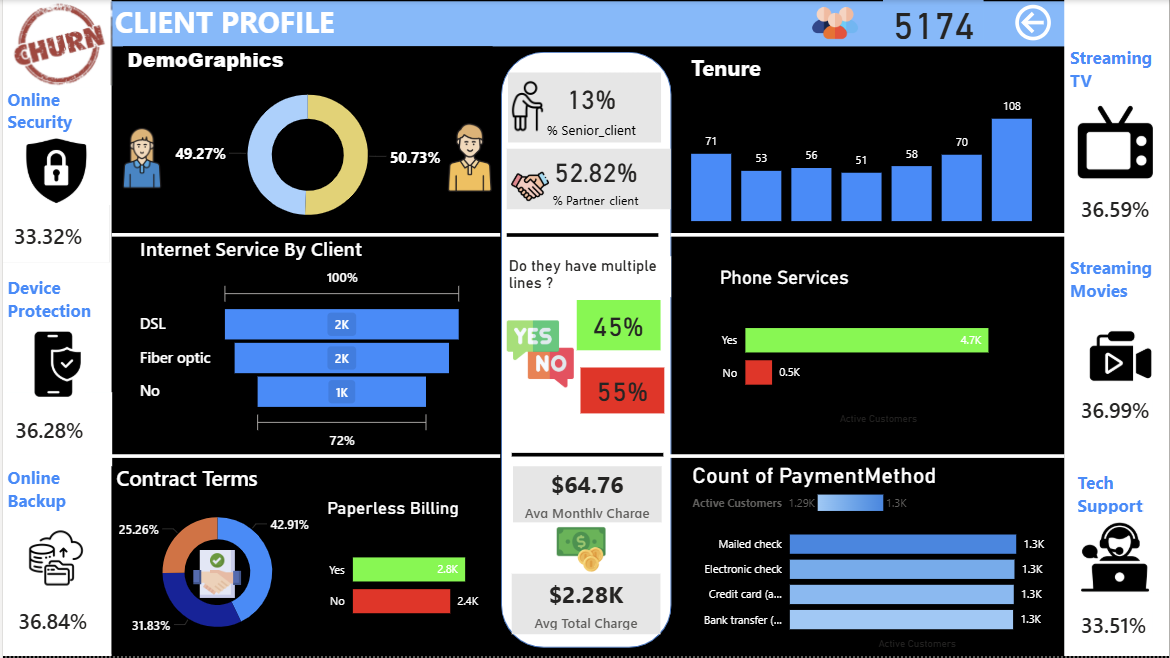

Layout of this report page (visuals, bound fields, positions):
{"tool":"powerbi","page":{"name":"CLIENT PROFILE","canvas":[1280,720],"ordinal":1},"visuals":[{"type":"textbox","title":"CLIENT PROFILE","box":[118,1.4,1162.3,49.4],"z":0},{"type":"card","fields":{"Values":["ChurnDataset.Active Customers"]},"box":[966.2,0,110.6,48.3],"z":1000},{"type":"donutChart","title":"DemoGraphics","fields":{"Category":["ChurnDataset.GENDER"],"Y":["ChurnDataset.Active Customers"]},"box":[132.1,50.1,406,209.1],"z":2000},{"type":"actionButton","box":[1106.1,0,58.5,49.6],"z":3000},{"type":"textbox","box":[0,0,119,800],"z":4000},{"type":"textbox","box":[1164.5,0,133.4,800.2],"z":5000},{"type":"funnel","title":"Internet Service By Client","fields":{"Category":["ChurnDataset.INTERNETSERVICE"],"Y":["ChurnDataset.Active Customers"]},"box":[145,258.3,365,241.7],"z":6000},{"type":"donutChart","title":"Contract Terms","fields":{"Category":["ChurnDataset.CONTRACT"],"Y":["ChurnDataset.Active Customers"]},"box":[119.8,508.7,232.3,207.9],"z":7000},{"type":"clusteredBarChart","title":"Phone Services","fields":{"Category":["ChurnDataset.PHONESERVICE"],"Y":["ChurnDataset.Active Customers"]},"box":[781.7,291.7,330,178.3],"z":8000},{"type":"barChart","title":"Paperless Billing","fields":{"Category":["ChurnDataset.PAPERLESSBILLING"],"Y":["ChurnDataset.Active Customers"]},"box":[351,546.6,188.3,165.1],"z":9000},{"type":"clusteredBarChart","title":"Count of PaymentMethod","fields":{"Category":["ChurnDataset.PAYMENTMETHOD"],"Y":["ChurnDataset.Active Customers"]},"box":[751.7,508.3,396.7,210],"z":10000},{"type":"cardVisual","fields":{"Data":["ChurnDataset.% Onlinesec_client"]},"box":[0,225,117.4,63.6],"z":11000},{"type":"cardVisual","fields":{"Data":["ChurnDataset.% Device_client"]},"box":[1.2,430.4,118.6,80.7],"z":12000},{"type":"cardVisual","fields":{"Data":["ChurnDataset.% Onlinebackup_client"]},"box":[0,640.8,118.6,78.3],"z":13000},{"type":"cardVisual","fields":{"Data":["ChurnDataset.% StreamTV_client"]},"box":[1166.6,195.7,113.7,63.6],"z":14000},{"type":"cardVisual","fields":{"Data":["ChurnDataset.% Streammovie_client"]},"box":[1166.6,417,113.7,62.4],"z":15000},{"type":"cardVisual","fields":{"Data":["ChurnDataset.% Tech_client"]},"box":[1166.6,650.5,113.7,69.7],"z":16000},{"type":"shape","box":[538.3,48.4,204.9,671.9],"z":17000},{"type":"card","fields":{"Values":["ChurnDataset.% Senior_client"]},"box":[555,80,168.3,76.7],"z":18000},{"type":"card","fields":{"Values":["ChurnDataset.% Partner_client"]},"box":[553.3,163.3,180,66.7],"z":19000},{"type":"card","fields":{"Values":["ChurnDataset.Avg Monthly Charge"]},"box":[560,511.7,163.3,61.7],"z":20000},{"type":"card","fields":{"Values":["ChurnDataset.Avg Total Charge"]},"box":[558.3,630,163.3,66.7],"z":21000},{"type":"card","fields":{"Values":["ChurnDataset.% Multiple_no_client"]},"box":[633.3,403.3,91.7,50],"z":22000},{"type":"card","fields":{"Values":["ChurnDataset.% Multiple_yes_client"]},"box":[630,330,91.7,55],"z":23000},{"type":"image","box":[827.9,0,172.4,50.1],"z":24000},{"type":"image","box":[11,146.7,95.4,80.7],"z":25000},{"type":"image","box":[19.6,358.3,81.9,83.2],"z":26000},{"type":"image","box":[18.3,577.2,80.7,69.7],"z":27000},{"type":"image","box":[475,110,75,126.7],"z":28000},{"type":"image","box":[120,98.3,66.7,150],"z":29000},{"type":"image","box":[207.9,599.2,56.3,61.1],"z":30000},{"type":"image","box":[543.3,35,65,161.7],"z":31000},{"type":"image","box":[543.3,183.3,70,41.7],"z":32000},{"type":"image","box":[553.3,310,73.3,156.7],"z":33000},{"type":"image","box":[540,576.7,188.3,53.3],"z":34000},{"type":"image","box":[1162.9,114.9,117.4,81.9],"z":35000},{"type":"image","box":[1172.7,354.6,107.6,73.4],"z":36000},{"type":"image","box":[1173.9,571.1,95.4,81.9],"z":37000},{"type":"image","box":[3.7,0,116.2,95.4],"z":38000},{"type":"textbox","title":"Online Security","box":[0,95.4,99,56.3],"z":39000},{"type":"textbox","title":"Device Protection","box":[0,303.3,107.6,55],"z":40000},{"type":"textbox","title":"Online Backup","box":[0,512.4,116.2,51.4],"z":41000},{"type":"textbox","title":"Do they have multiple lines ?","box":[550,281.7,183.3,45],"z":42000},{"type":"textbox","title":"Streaming TV","box":[1166.6,51.4,113.7,46.5],"z":43000},{"type":"textbox","title":"Streaming Movies","box":[1166.7,281.7,113.3,56.7],"z":44000},{"type":"textbox","title":"Tech Support","box":[1175.1,517.3,92.9,46.5],"z":45000},{"type":"shape","box":[120,228.3,426.7,60],"z":46000},{"type":"shape","box":[120,470,426.7,60],"z":47000},{"type":"shape","box":[733.3,228.3,433.3,60],"z":48000},{"type":"shape","box":[728.3,470,436.7,60],"z":49000},{"type":"shape","box":[553.3,235,166.7,46.7],"z":50000},{"type":"shape","box":[558.3,481.7,166.7,35],"z":51000},{"type":"clusteredColumnChart","title":"Tenure","fields":{"Y":["ChurnDataset.Active Customers"],"Category":["ChurnDataset.TENURE"]},"box":[751.2,57.1,384.1,191.3],"z":52000}]}

Visuals, with their boxes in screenshot pixels (x1, y1, x2, y2), scaled from the page's 1280x720 canvas onto the 1170x658 screenshot:
"CLIENT PROFILE" textbox: [108,1,1169,46]
card - ChurnDataset.Active Customers: [883,0,984,44]
"DemoGraphics" donutChart: [121,46,492,237]
actionButton: [1011,0,1065,45]
textbox: [0,0,109,657]
textbox: [1064,0,1169,657]
"Internet Service By Client" funnel: [133,236,466,457]
"Contract Terms" donutChart: [110,465,322,655]
"Phone Services" clusteredBarChart: [715,267,1016,430]
"Paperless Billing" barChart: [321,500,493,650]
"Count of PaymentMethod" clusteredBarChart: [687,465,1050,656]
cardVisual - ChurnDataset.% Onlinesec_client: [0,206,107,264]
cardVisual - ChurnDataset.% Device_client: [1,393,110,467]
cardVisual - ChurnDataset.% Onlinebackup_client: [0,586,108,657]
cardVisual - ChurnDataset.% StreamTV_client: [1066,179,1169,237]
cardVisual - ChurnDataset.% Streammovie_client: [1066,381,1169,438]
cardVisual - ChurnDataset.% Tech_client: [1066,594,1169,657]
shape: [492,44,679,657]
card - ChurnDataset.% Senior_client: [507,73,661,143]
card - ChurnDataset.% Partner_client: [506,149,670,210]
card - ChurnDataset.Avg Monthly Charge: [512,468,661,524]
card - ChurnDataset.Avg Total Charge: [510,576,660,637]
card - ChurnDataset.% Multiple_no_client: [579,369,663,414]
card - ChurnDataset.% Multiple_yes_client: [576,302,660,352]
image: [757,0,914,46]
image: [10,134,97,208]
image: [18,327,93,403]
image: [17,527,90,591]
image: [434,101,503,216]
image: [110,90,171,227]
image: [190,548,241,603]
image: [497,32,556,180]
image: [497,168,561,206]
image: [506,283,573,427]
image: [494,527,666,576]
image: [1063,105,1169,180]
image: [1072,324,1169,391]
image: [1073,522,1160,597]
image: [3,0,110,87]
"Online Security" textbox: [0,87,90,139]
"Device Protection" textbox: [0,277,98,327]
"Online Backup" textbox: [0,468,106,515]
"Do they have multiple lines ?" textbox: [503,257,670,299]
"Streaming TV" textbox: [1066,47,1169,89]
"Streaming Movies" textbox: [1066,257,1169,309]
"Tech Support" textbox: [1074,473,1159,515]
shape: [110,209,500,263]
shape: [110,430,500,484]
shape: [670,209,1066,263]
shape: [666,430,1065,484]
shape: [506,215,658,257]
shape: [510,440,663,472]
"Tenure" clusteredColumnChart: [687,52,1038,227]
